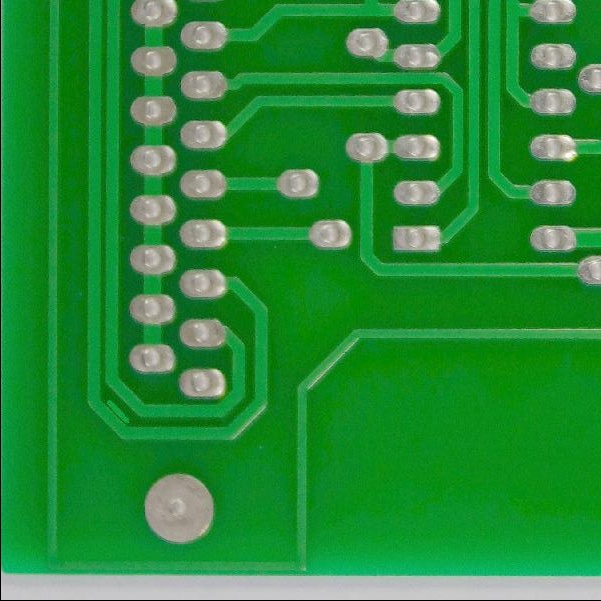spurious_copper: (100, 389, 134, 433)
